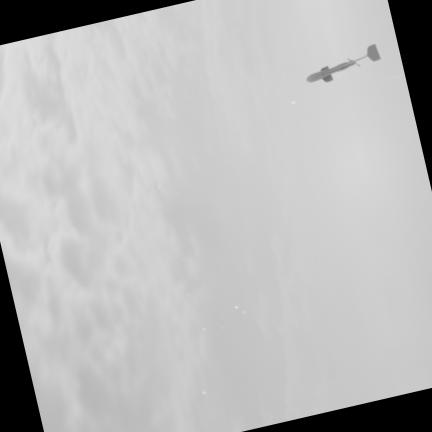Shahed: (305, 42, 382, 82)
